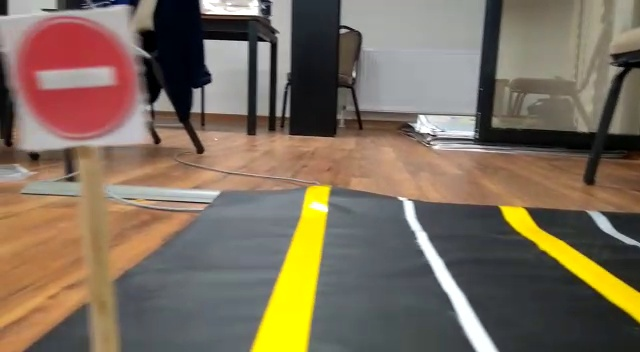girisi_olmayan_yol: (8, 15, 147, 140)
